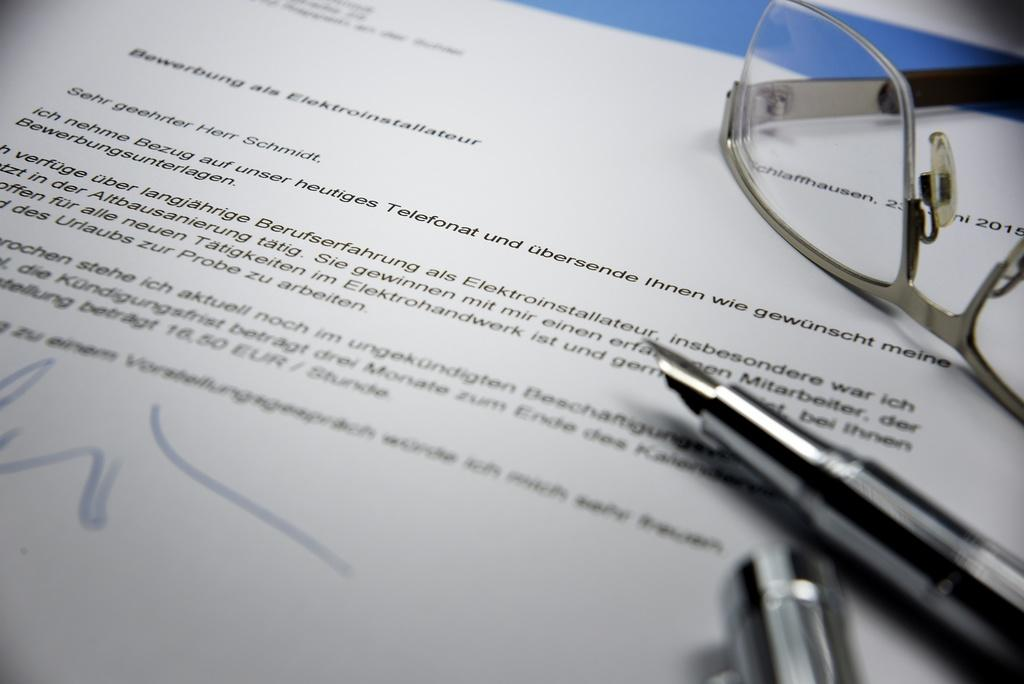pen: (644, 338, 1023, 683)
